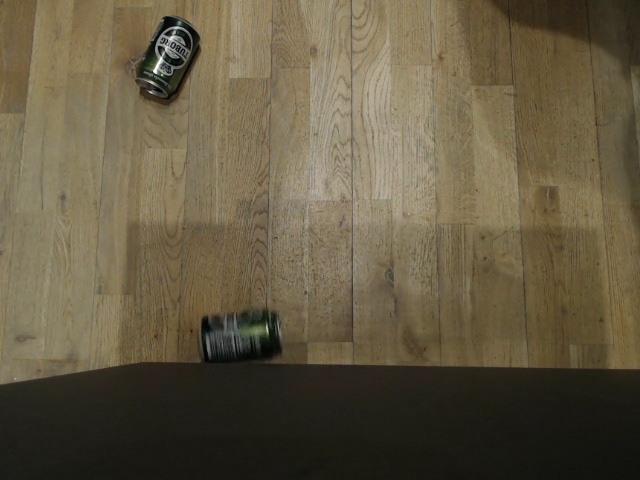beer: (132, 13, 202, 100), (196, 306, 286, 363)
